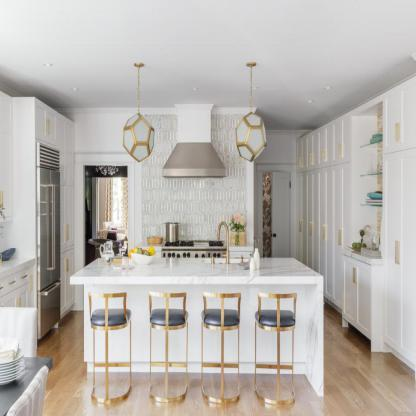chair: (79, 287, 135, 413), (254, 287, 297, 413), (147, 292, 191, 412), (202, 287, 245, 407), (1, 364, 49, 416)
door: (273, 169, 292, 254)
light: (232, 50, 275, 167), (117, 50, 158, 171)
table: (69, 255, 324, 387), (2, 354, 52, 416)
